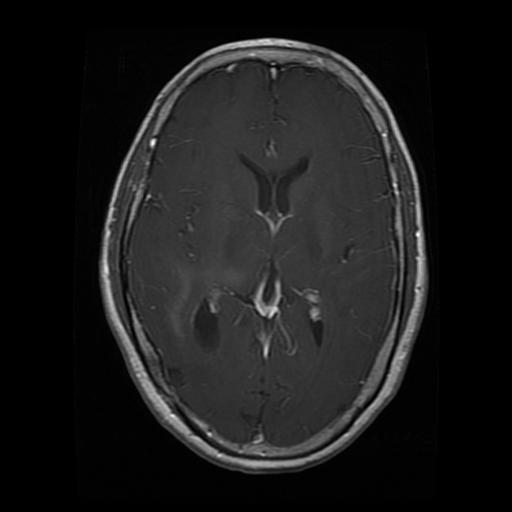Gliomia_tumour: (167, 263, 239, 352)
